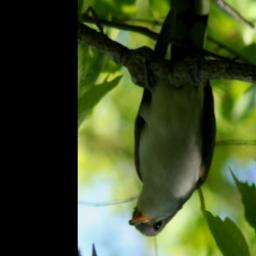Cuckoo: (128, 0, 218, 237)
